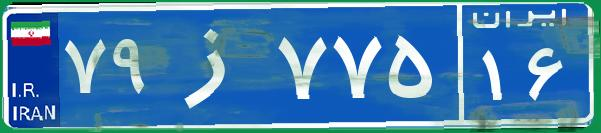1: (475, 38, 525, 113)
5: (385, 28, 445, 110)
6: (525, 38, 570, 115)
7: (273, 28, 330, 110), (330, 28, 385, 110), (57, 26, 110, 107)
9: (110, 28, 158, 105)
ز: (158, 15, 273, 115)
